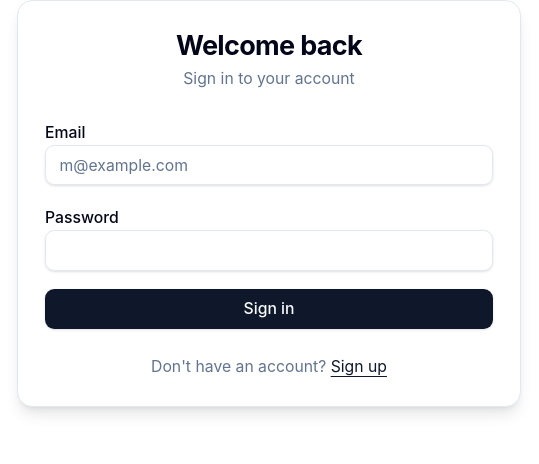
Test: LoginForm validation › shows invalid email error for malformed email
The image size is (539, 464).
Type "not-an-email" into the field labelled "Email" at (269, 165), box [45,145,493,186]
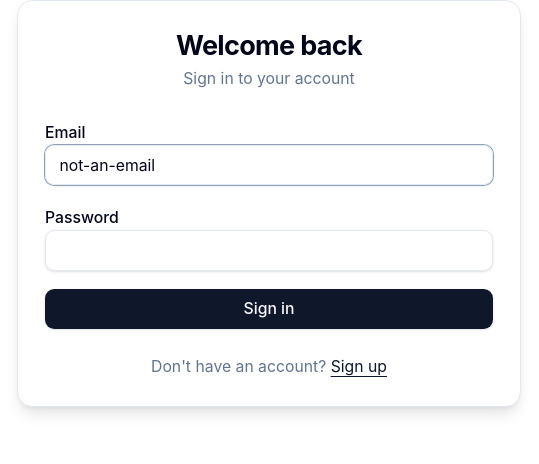
Type "ValidPass1!" into the password field labelled "Password" at (269, 251), box [45,230,493,271]
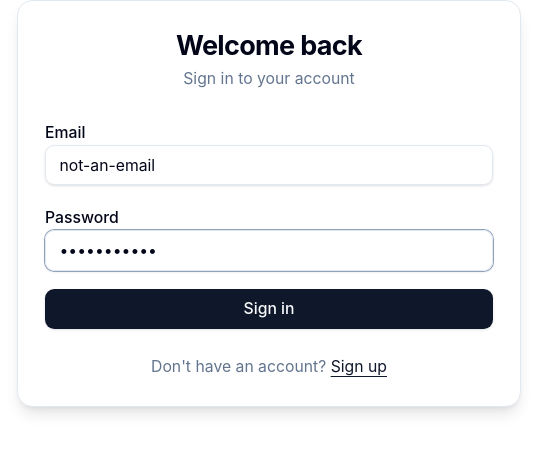
Click the button "Sign in" at (269, 309), box [45,289,493,330]
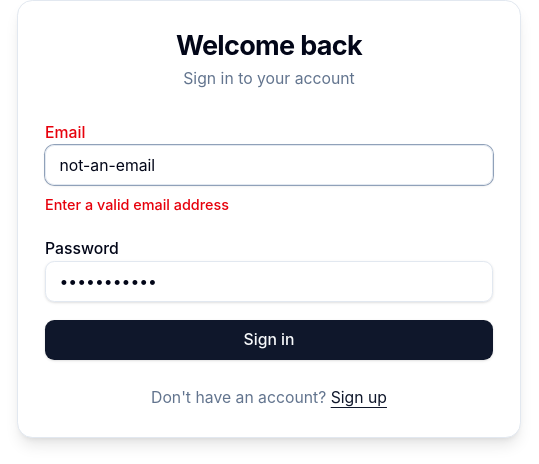
Check: the text "Enter a valid email address" is shown, box [45,196,229,214]
